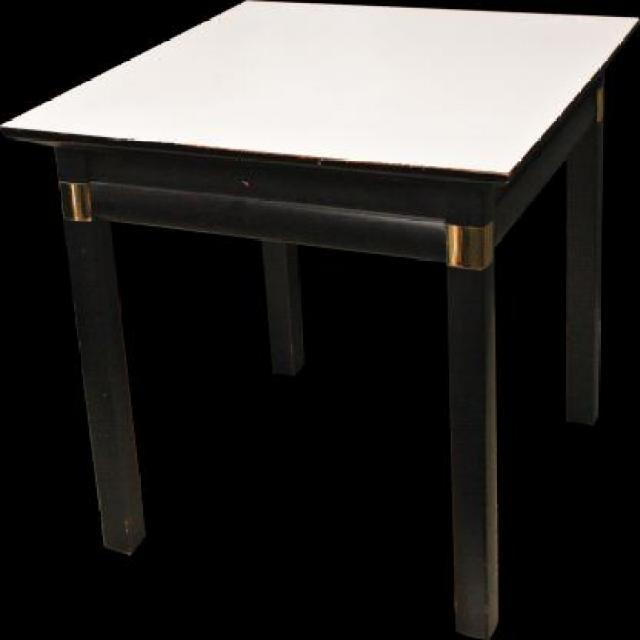table: (3, 11, 639, 640)
